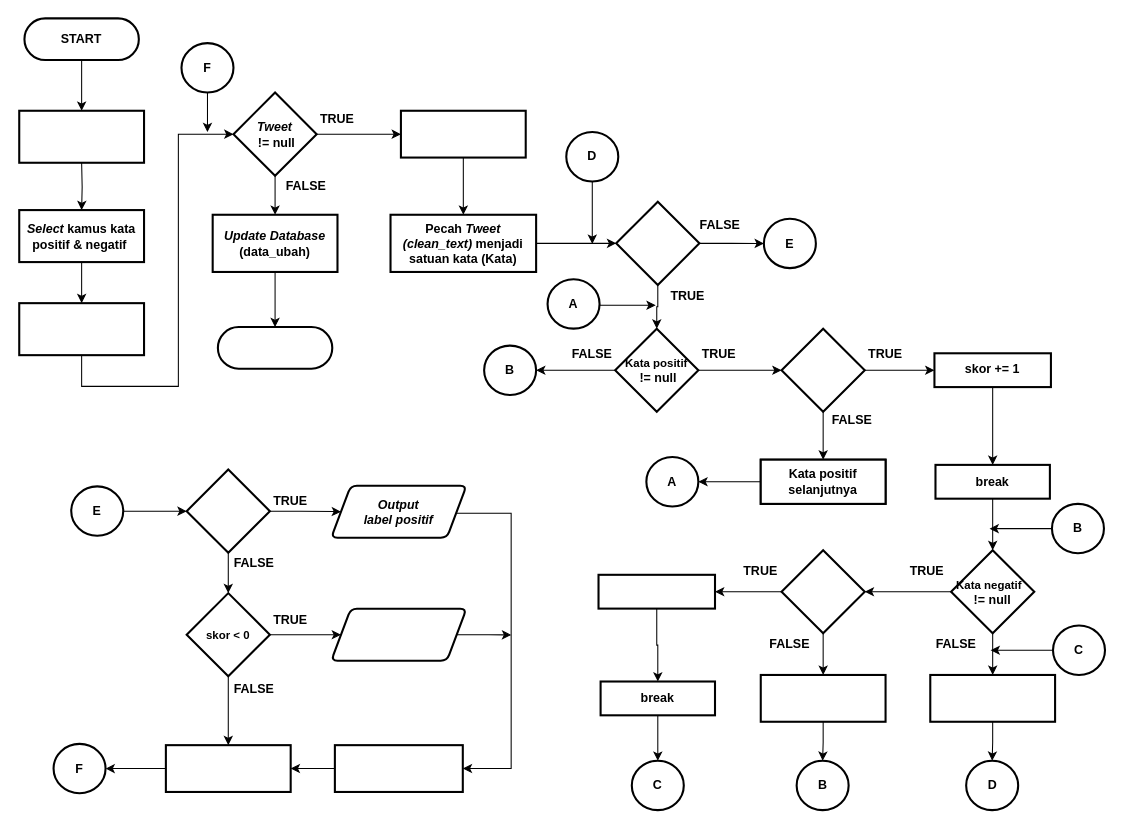
The diagram is 1123 pixels wide and 830 high, and some of its shapes have lost their labels. Here are the shapes that lost their labels. From the top down, the centre of each, then its label:
At (x=81, y=136): "Select dataset tanpa label".
At (x=462, y=133): "skor = 0".
At (x=657, y=242): "Kata != null".
At (x=81, y=329): "data_ubah = []".
At (x=274, y=347): "END".
At (x=822, y=369): "Kata == Kata positif".
At (x=227, y=510): "skor > 0".
At (x=656, y=591): "skor -= 1".
At (x=822, y=591): "Kata == Kata negatif".
At (x=398, y=634): "Output label negatif".
At (x=822, y=697): "Kata negatif selanjutnya".
At (x=992, y=697): "Pecahan Kata selanjutnya".
At (x=227, y=768): "Tweet Selanjutnya".
At (x=398, y=768): "Tampung ke dalam data_ubah".
